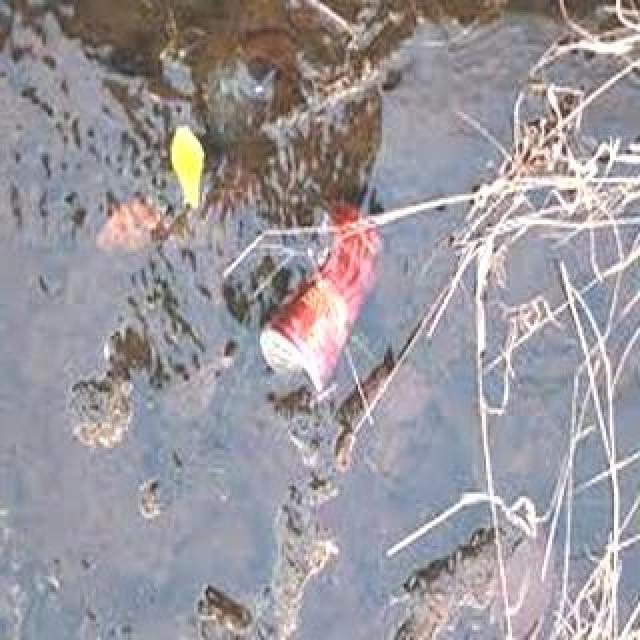Can: (258, 184, 384, 402)
